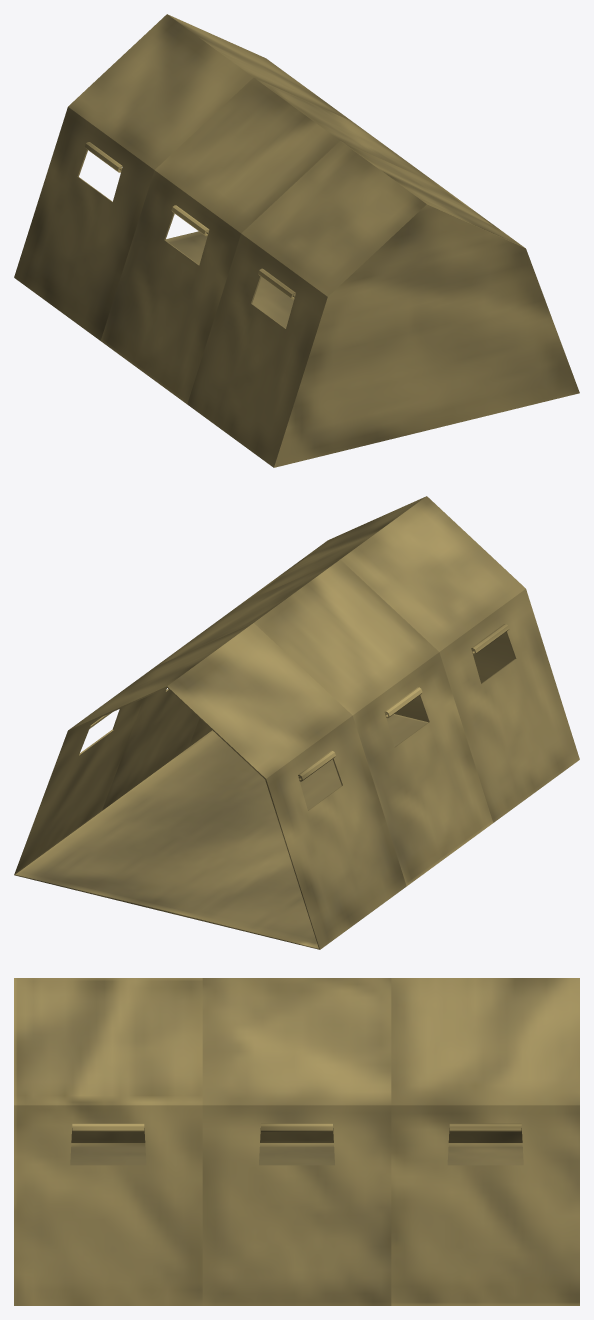
The model's file is BarracksMid.fbx.
The picture shows the model from 3 angles, top to bottom: view 1: azimuth 30°, elevation 25°; view 2: azimuth 150°, elevation 25°; view 3: azimuth 270°, elevation 25°; orthographic projection. The views are drawn at different scales.
Parts seen in each view (by area): view 1: Barracks Mid; view 2: Barracks Mid; view 3: Barracks Mid.
Part boxes in pixels (left/top/right/bottom): Barracks Mid: left=14, top=14, right=579, bottom=467; Barracks Mid: left=14, top=496, right=579, bottom=949; Barracks Mid: left=14, top=978, right=579, bottom=1305.
Size of the model in its own units: 1142 by 807 by 1679.
